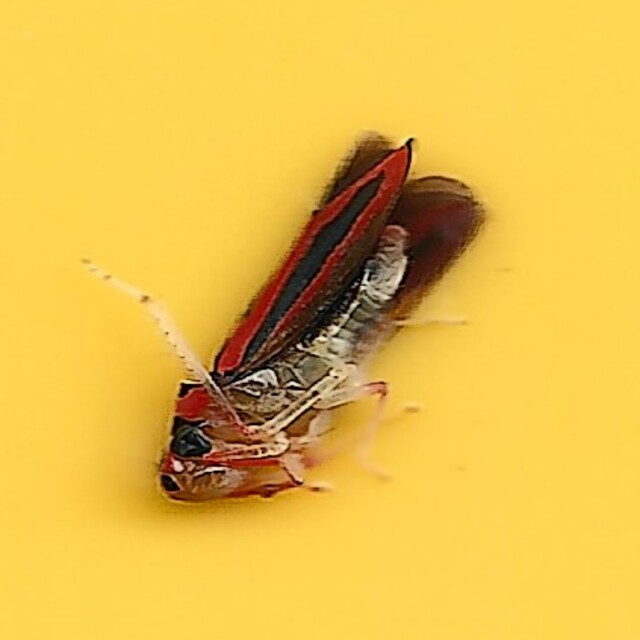Hemiptera: (151, 129, 489, 511)
